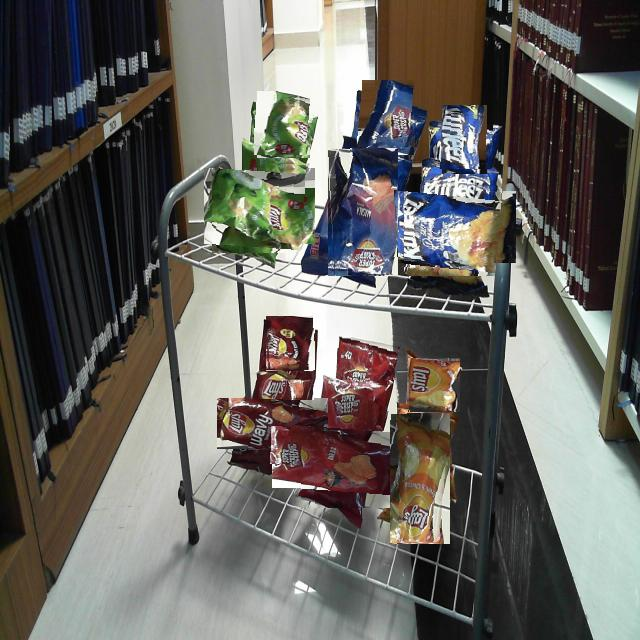Plastic: (292, 404, 398, 508), (404, 177, 503, 276), (327, 148, 398, 276), (212, 159, 306, 253), (390, 413, 450, 544), (232, 383, 314, 464), (356, 85, 421, 149), (254, 94, 314, 155), (436, 111, 493, 169), (407, 359, 460, 412), (337, 336, 398, 380), (264, 318, 315, 370)
